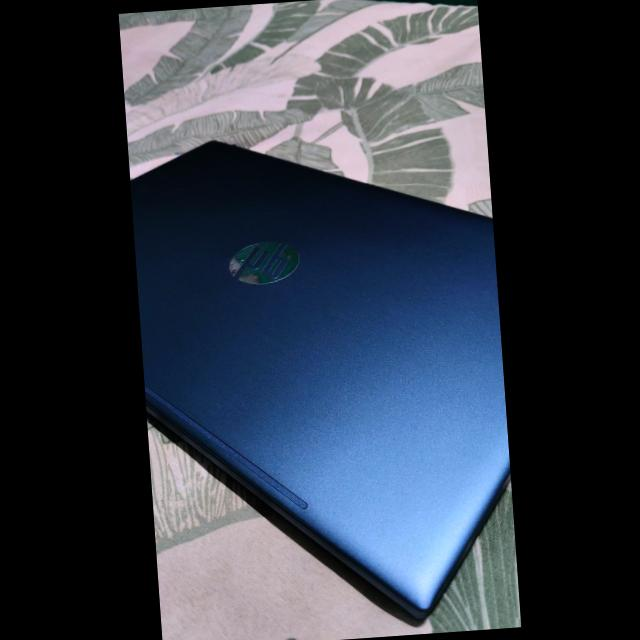laptop: (127, 113, 512, 622)
